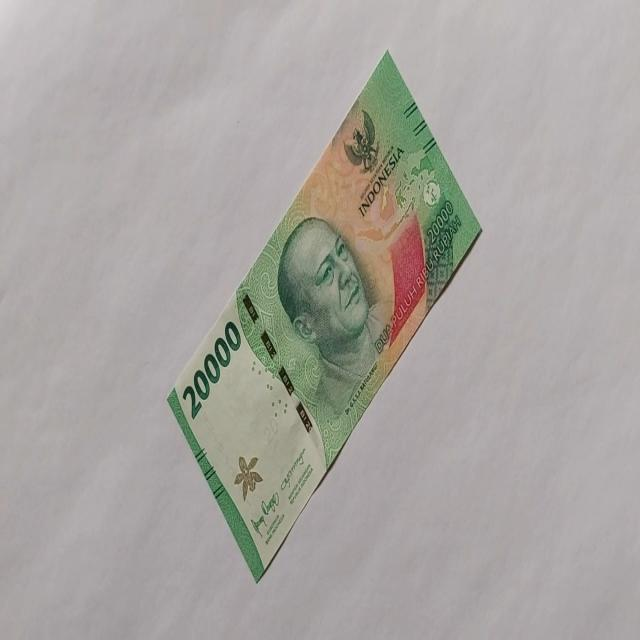dua puluh ribu rupiah: (166, 48, 483, 582), (276, 214, 386, 418), (181, 318, 241, 421)
